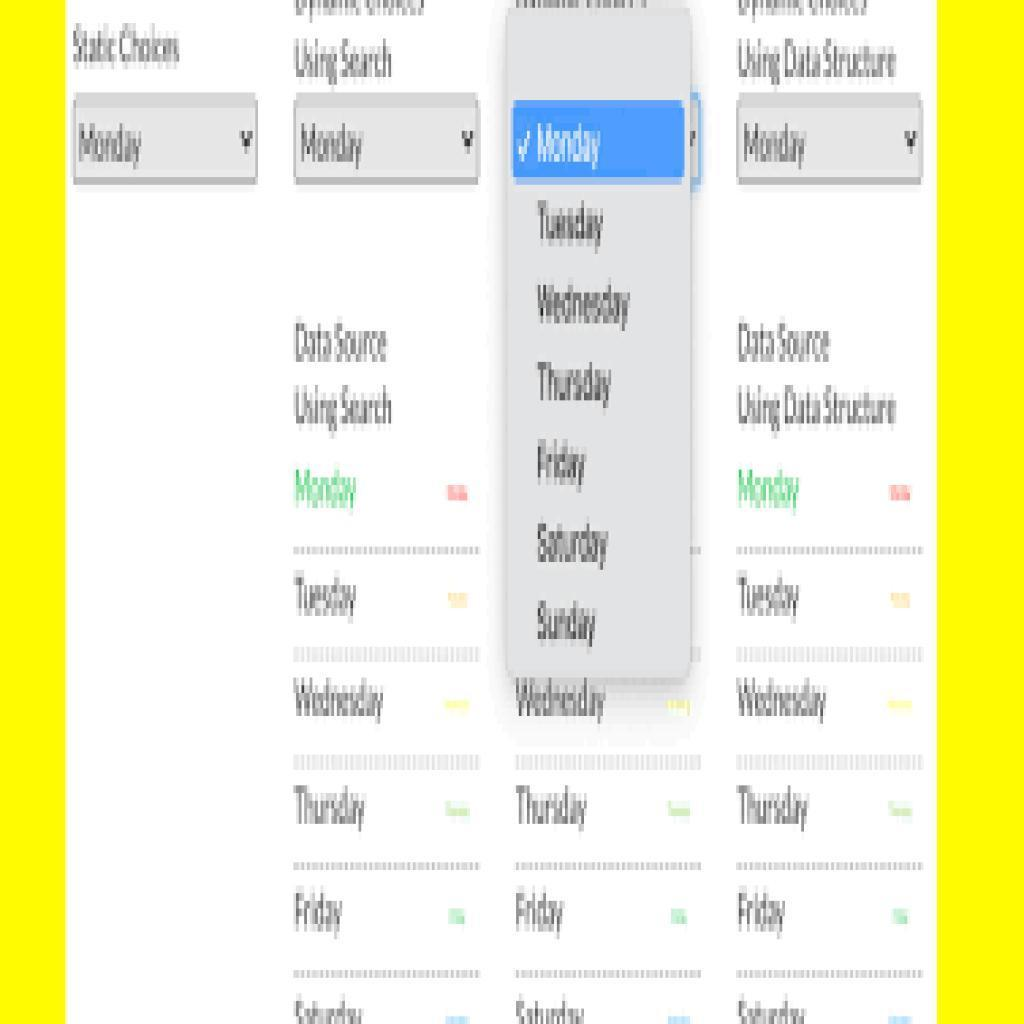button: (511, 98, 685, 186)
dropdown: (736, 95, 927, 187), (71, 94, 261, 185), (295, 96, 484, 186)
